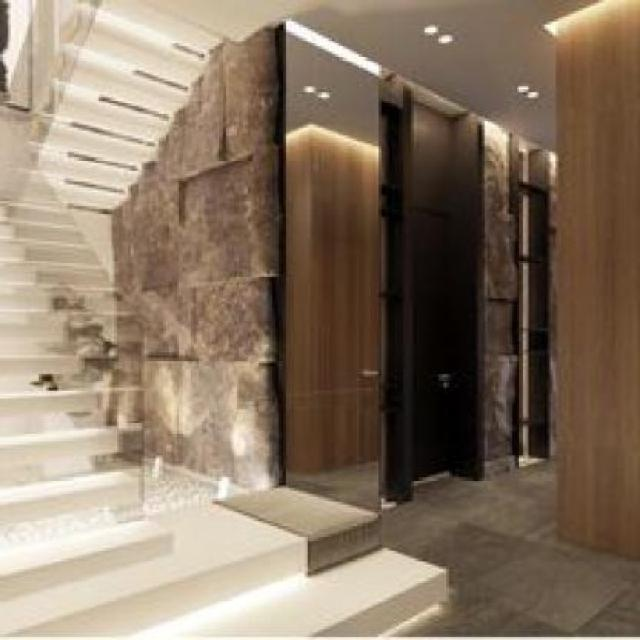stair: (2, 149, 200, 626)
